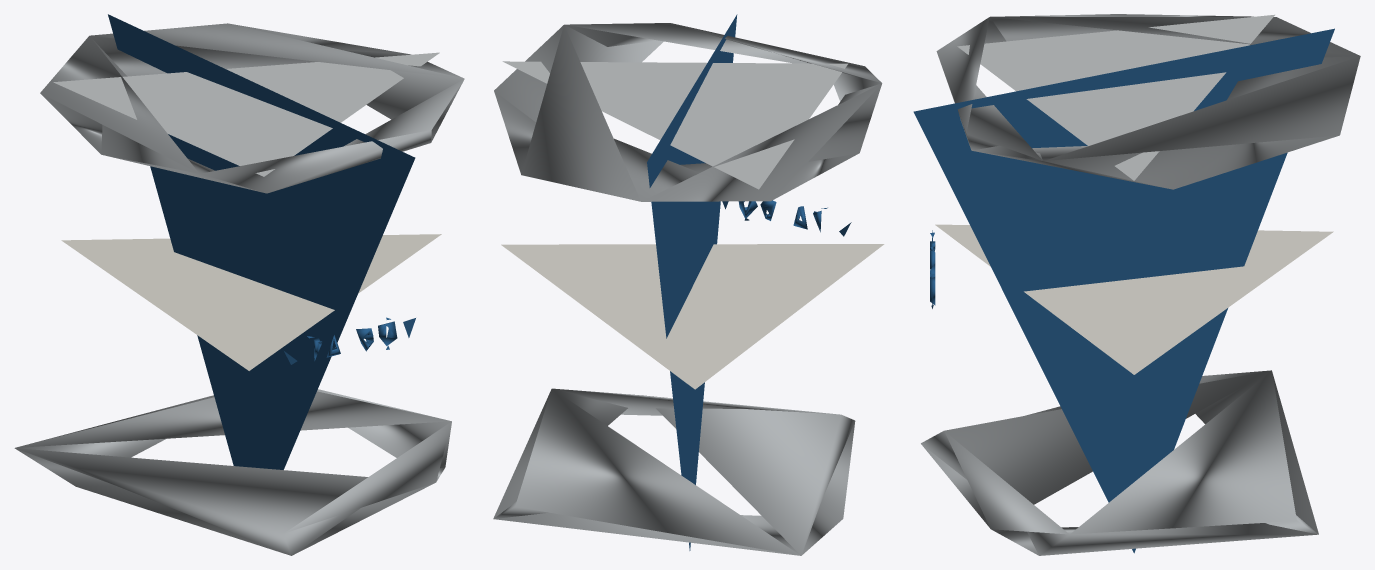
Rendered from lon_1_sua.glb.
The picture shows the model from 3 angles, left to right: view 1: azimuth 30°, elevation 25°; view 2: azimuth 150°, elevation 25°; view 3: azimuth 270°, elevation 25°; orthographic projection. The views are drawn at different scales.
Parts seen in each view (by area): view 1: lon_1_sua; view 2: lon_1_sua; view 3: lon_1_sua.
Boxes of the visible parts, bbox=[...] form: lon_1_sua: bbox=[14, 14, 464, 555]; lon_1_sua: bbox=[493, 14, 884, 555]; lon_1_sua: bbox=[913, 14, 1360, 555].
Size of the model in its own units: 0.1722 by 0.2126 by 0.1731.
